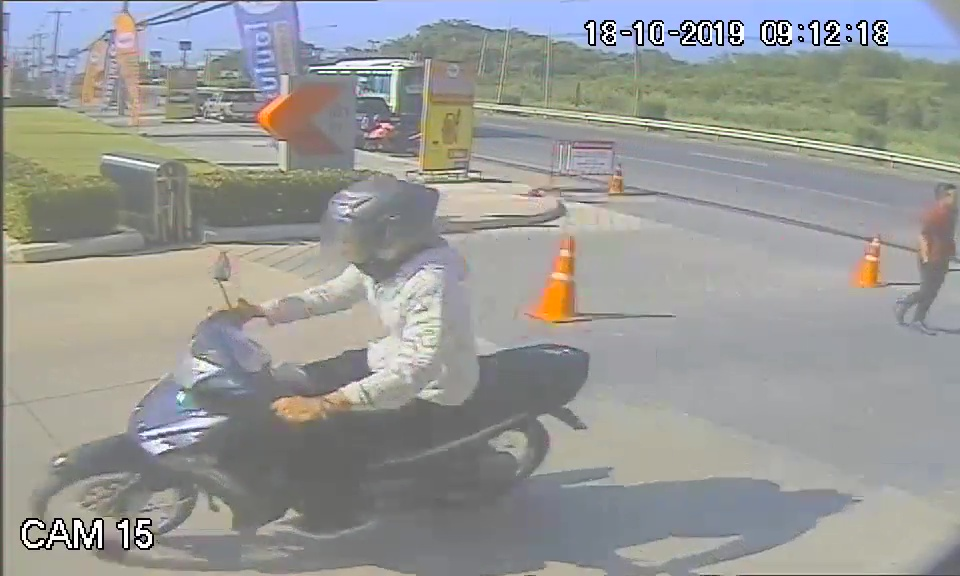motorcycle: (23, 303, 594, 530)
